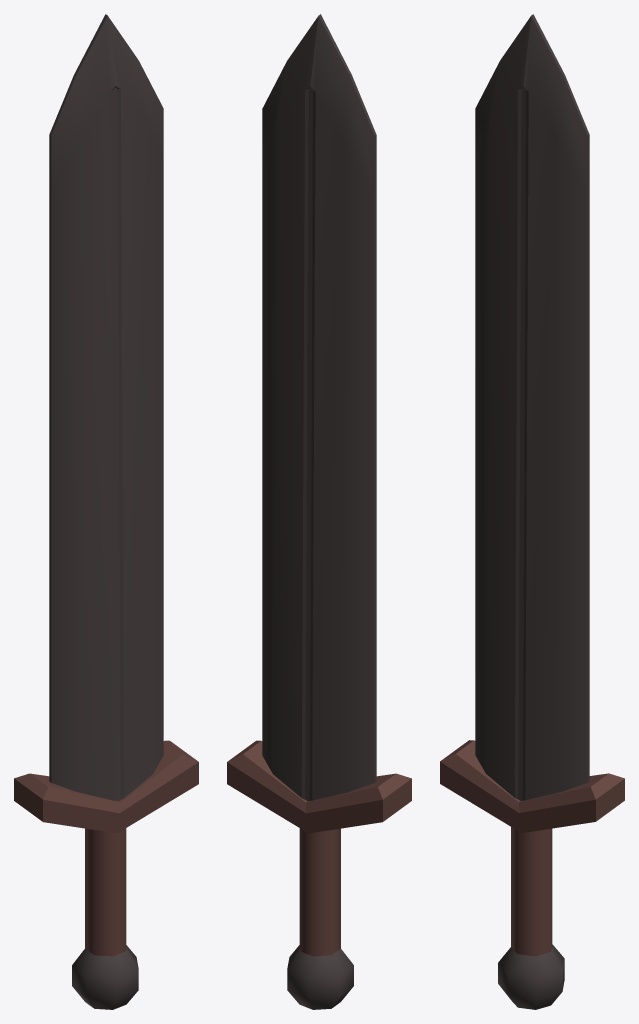
File: Sword.fbx
3 views of the same model, side by side, from view 1: azimuth 30°, elevation 25°; view 2: azimuth 150°, elevation 25°; view 3: azimuth 330°, elevation 25° (orthographic).
Parts seen in each view (by area): view 1: pCube7, pSphere1, pCube5; view 2: pCube7, pSphere1, pCube5; view 3: pCube7, pSphere1, pCube5.
Boxes of the visible parts, bbox=[...] form: pCube7: bbox=[49, 14, 163, 801]; pSphere1: bbox=[72, 828, 138, 1009]; pCube5: bbox=[14, 740, 198, 833]; pCube7: bbox=[262, 14, 376, 801]; pSphere1: bbox=[287, 828, 353, 1009]; pCube5: bbox=[227, 740, 411, 833]; pCube7: bbox=[475, 14, 589, 800]; pSphere1: bbox=[498, 827, 564, 1009]; pCube5: bbox=[440, 740, 624, 832].
Size of the model in its own units: 0.00187 by 0.0113 by 0.000705.
